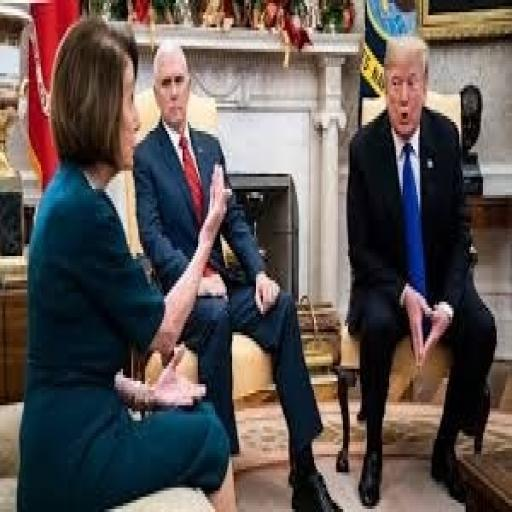sitting: (17, 12, 497, 506), (17, 12, 241, 509)
